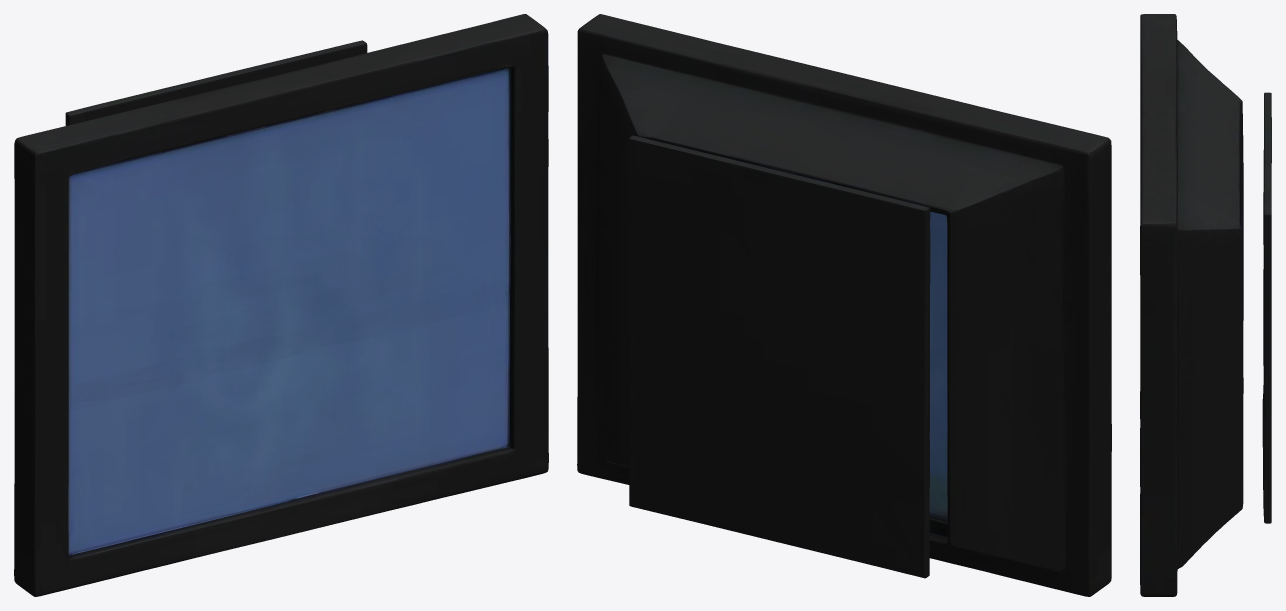
Rendered from tvalt.glb.
The picture shows the model from 3 angles, left to right: view 1: azimuth 30°, elevation 25°; view 2: azimuth 150°, elevation 25°; view 3: azimuth 270°, elevation 25°; orthographic projection. The views are drawn at different scales.
Parts seen in each view (by area): view 1: geometry_0; view 2: geometry_0; view 3: geometry_0.
Boxes of the visible parts, x1=… form: geometry_0: x1=14, y1=14, x2=548, y2=596; geometry_0: x1=577, y1=14, x2=1111, y2=596; geometry_0: x1=1140, y1=14, x2=1271, y2=596.
Bounding box in the file's own units: 1 × 0.8301 × 0.2642.
Materials: 1 (1 with a texture image).
